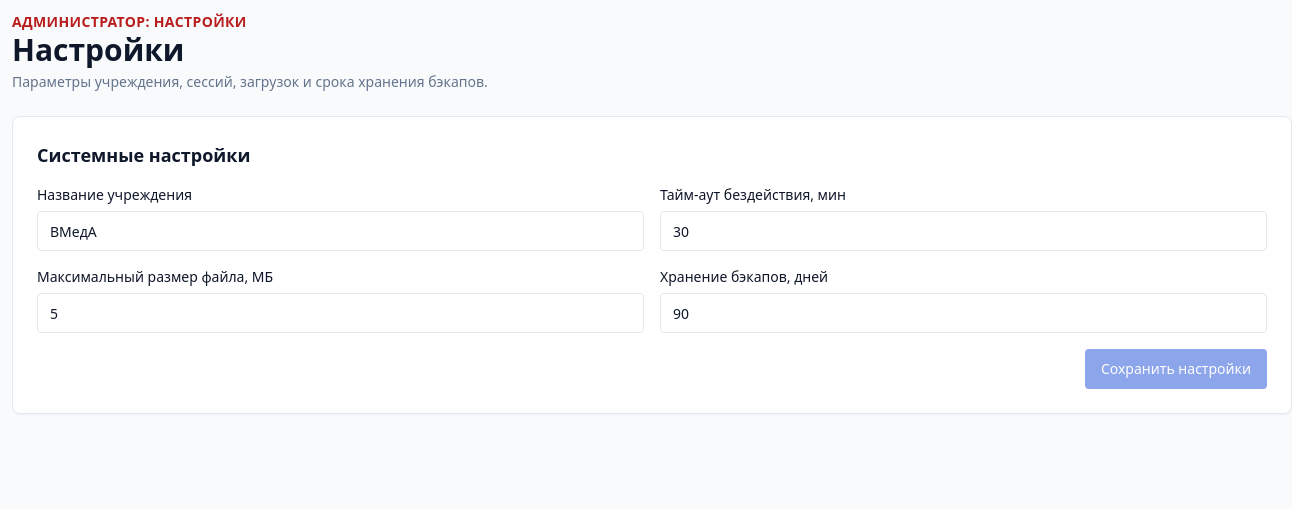
Test: Stage 9 admin panel › SettingsPage saves settings and clears the unsaved changes warning
The image size is (1292, 509).
Expected: the text "АДМИНИСТРАТОР: НАСТРОЙКИ" is shown, top-left (12, 12), bottom-right (247, 31)
Clear the field labelled "Название учреждения". click: (340, 231)
box: top-left (37, 211), bottom-right (644, 251)
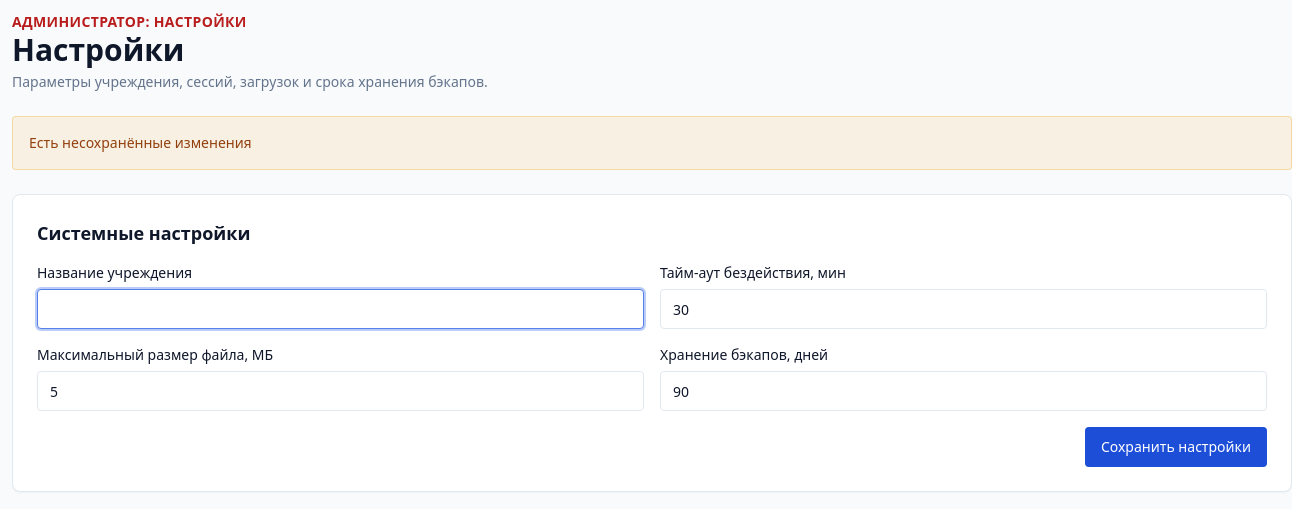
Type "Военно-медицинская академия" into the field labelled "Название учреждения". click: (340, 309)
box: top-left (37, 289), bottom-right (644, 329)
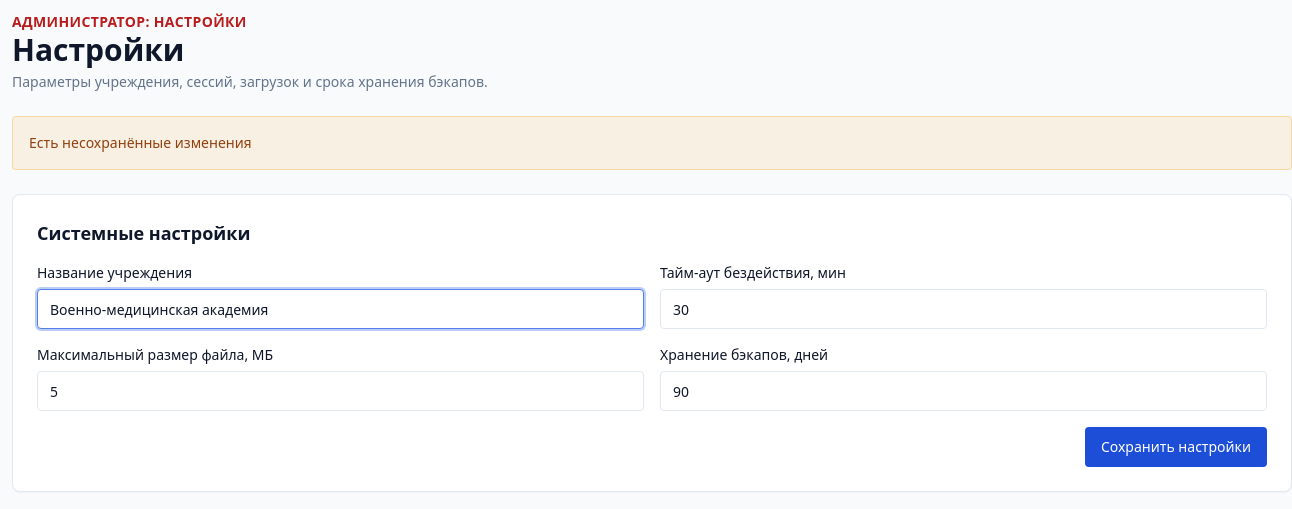
Result: the message reads "Есть несохранённые изменения" at top-left (29, 133), bottom-right (252, 152)
Click the button "Сохранить настройки". click: (1176, 447)
box: top-left (1085, 427), bottom-right (1267, 467)
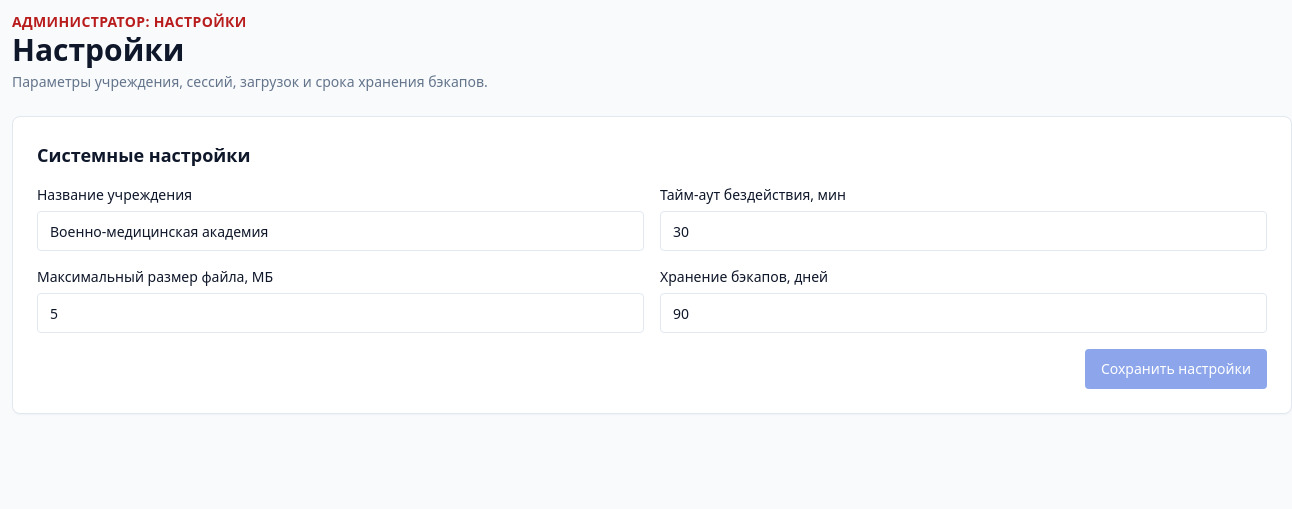
Result: the text "Есть несохранённые изменения" is gone
